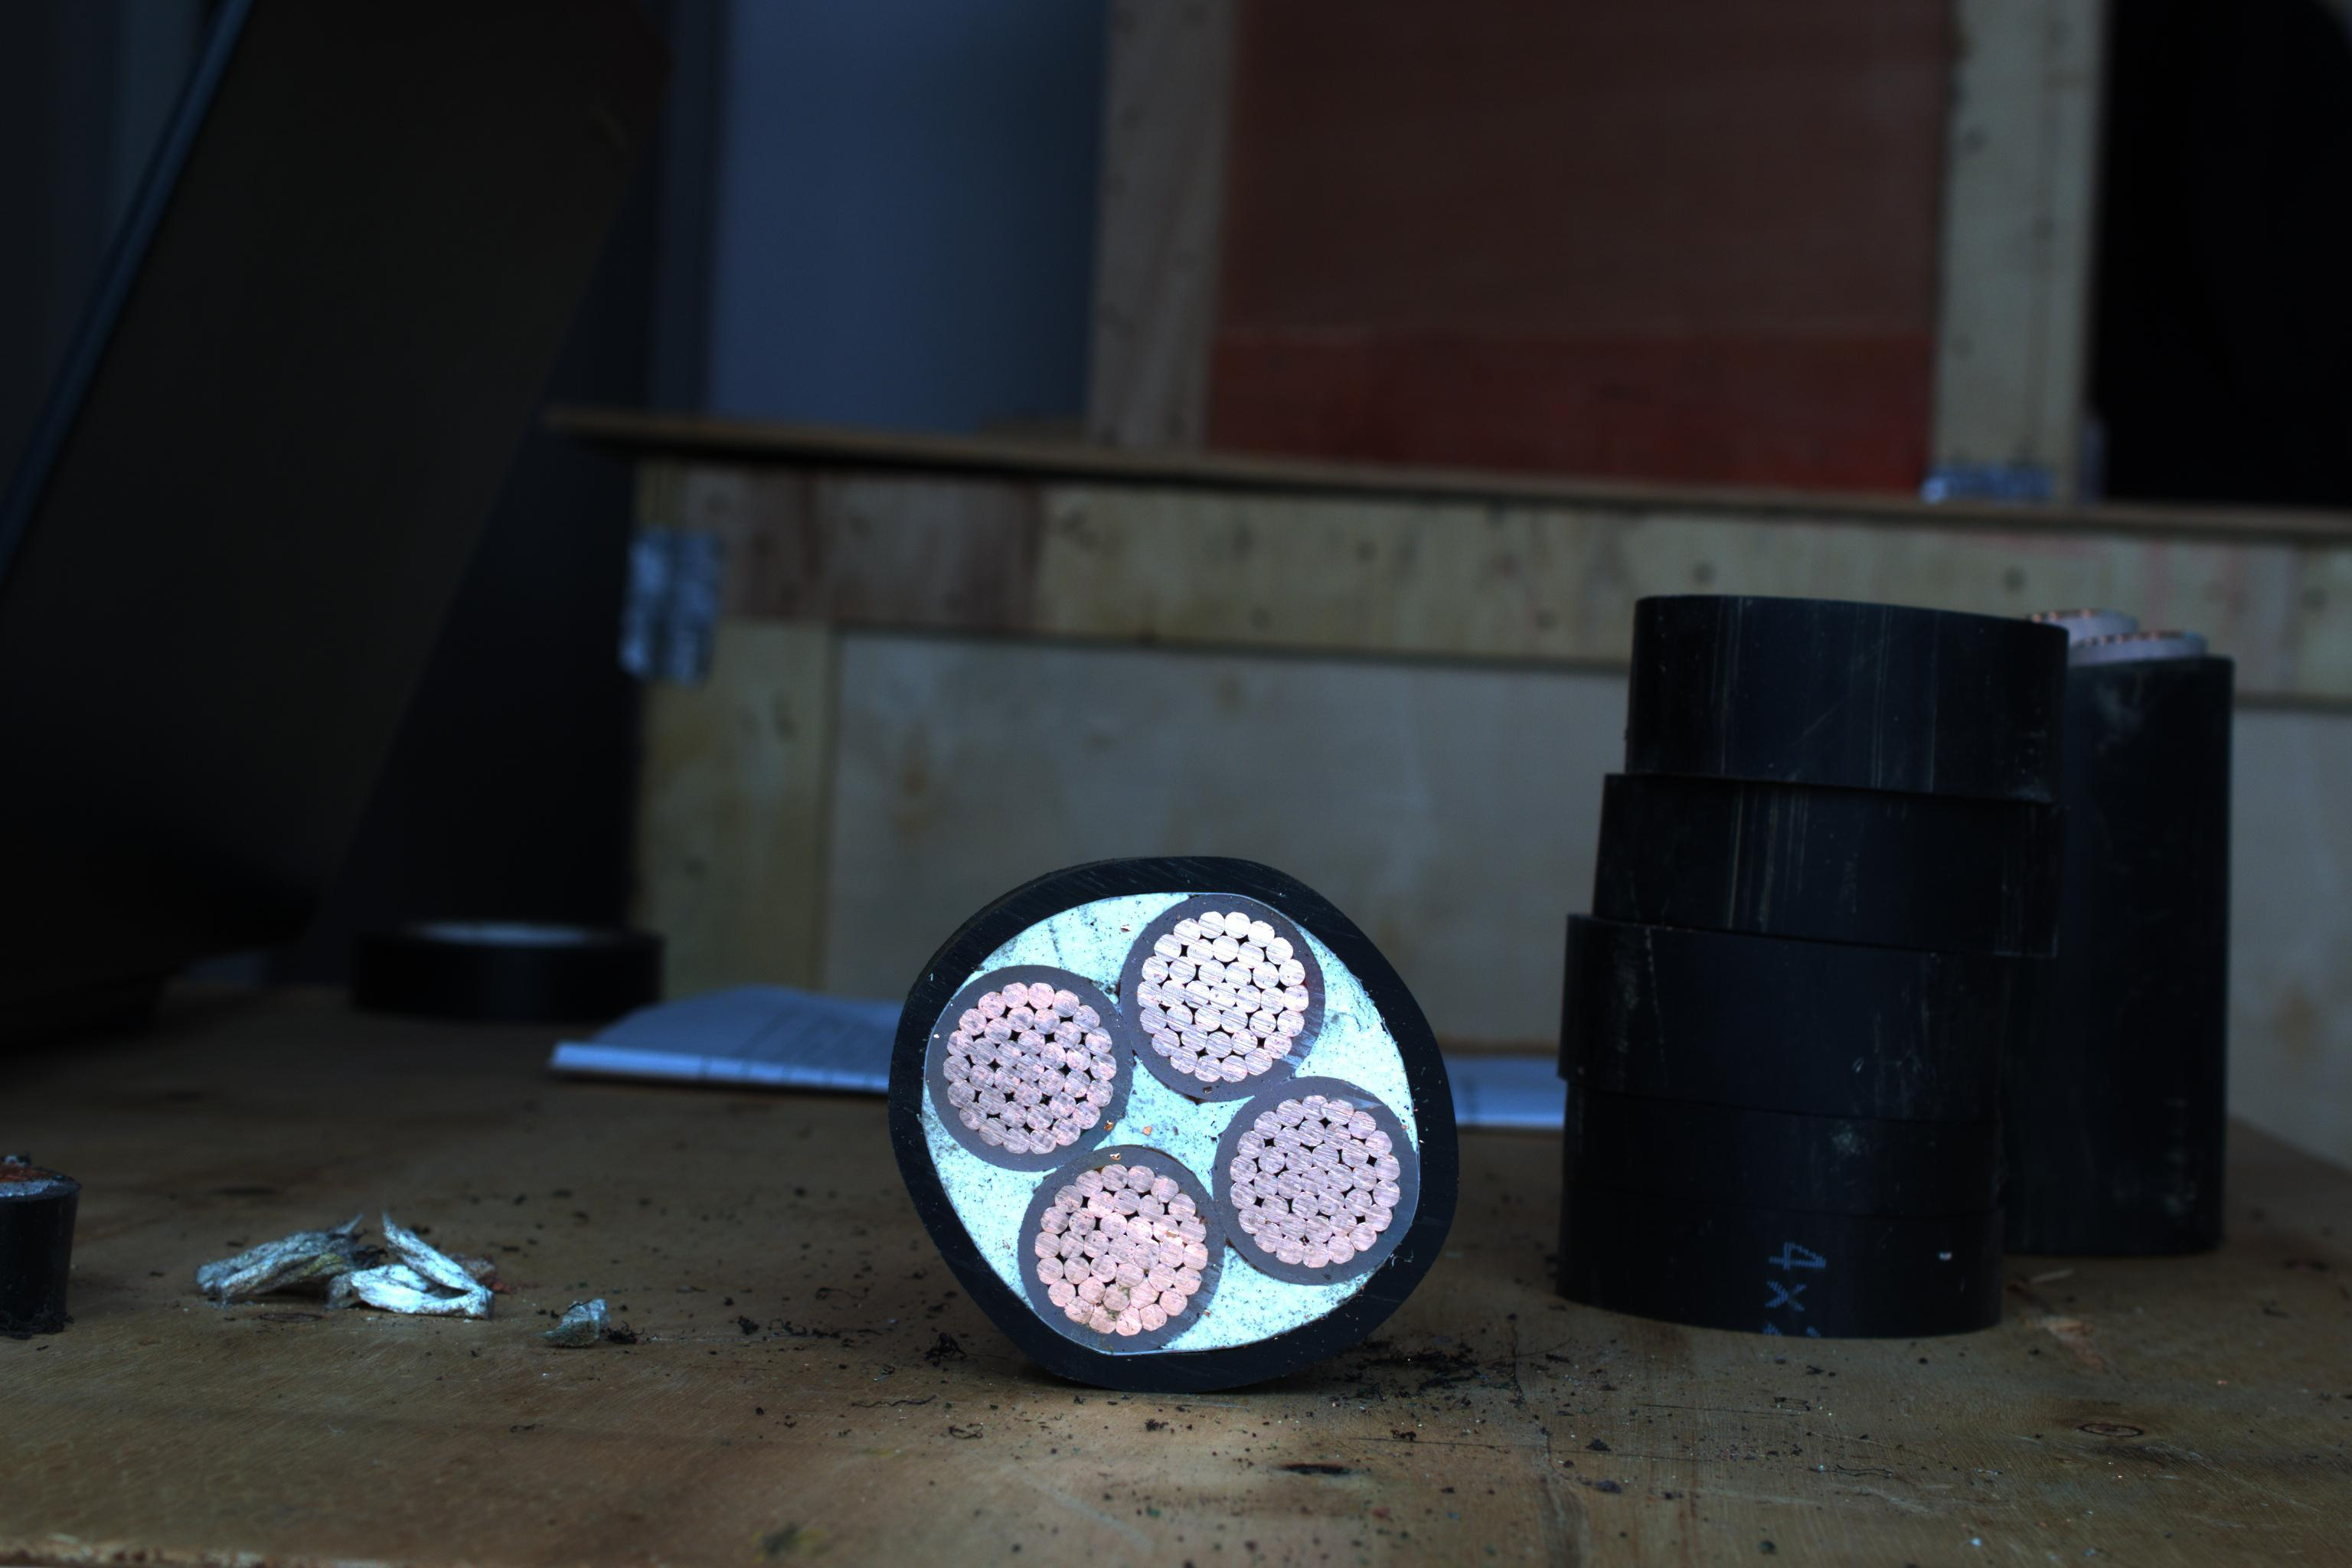YJV_0.6_1kV_4x240: (880, 873, 1458, 1372)
